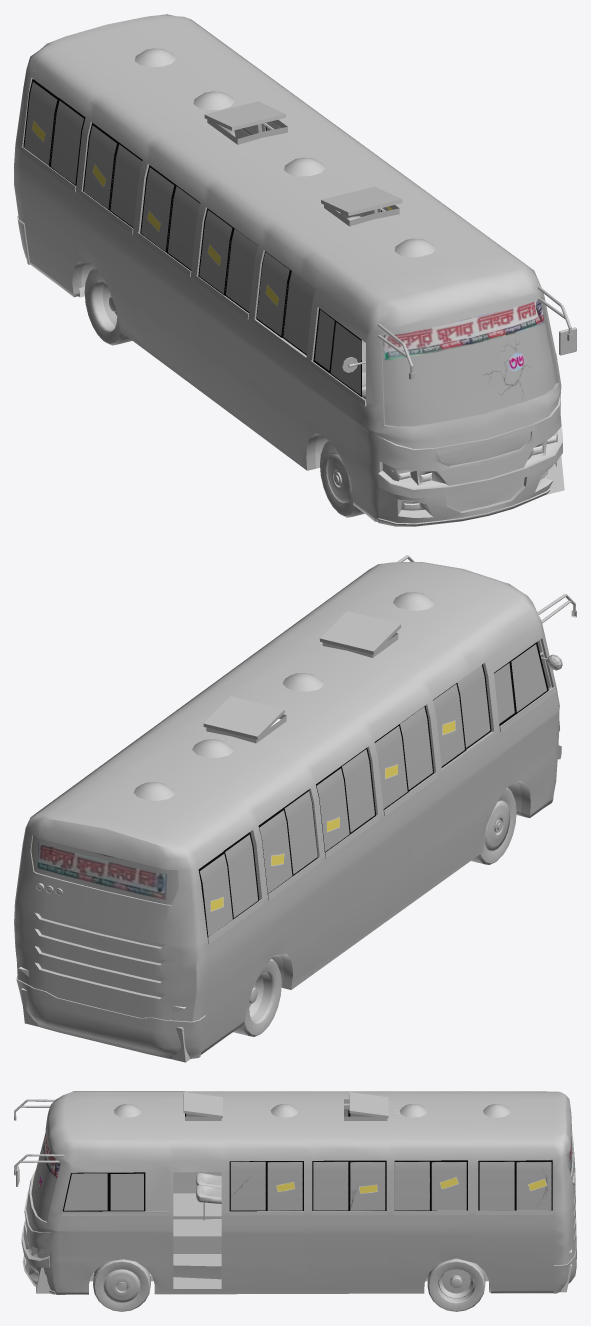
Rendered from Bus 1.fbx.
The picture shows the model from 3 angles, top to bottom: view 1: azimuth 30°, elevation 25°; view 2: azimuth 150°, elevation 25°; view 3: azimuth 270°, elevation 25°; orthographic projection. The views are drawn at different scales.
Parts seen in each view (by area): view 1: model_0; view 2: model_0, Cube; view 3: model_0, Cube.
Boxes of the visible parts, x1,y1,x2,y2 form: model_0: (14,14,576,526); model_0: (14,555,576,1058); Cube: (18,967,190,1062); model_0: (14,1091,576,1311); Cube: (36,1249,571,1293).
Bounding box in the file's own units: 911 × 1084 × 3015.
